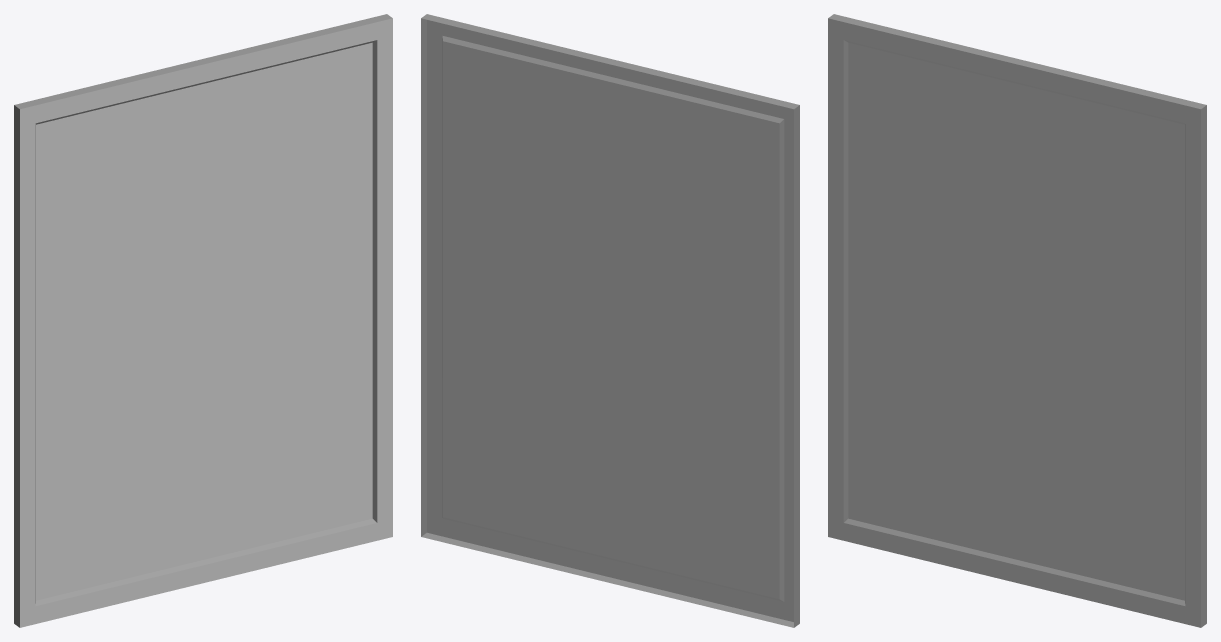
File: Poster1.fbx
3 renders of one model, left to right at view 1: azimuth 30°, elevation 25°; view 2: azimuth 150°, elevation 25°; view 3: azimuth 330°, elevation 25°, orthographic.
Visible parts, largest first — view 1: Plane; view 2: Plane; view 3: Plane.
Boxes of the visible parts, bbox=[...] form: Plane: bbox=[14, 14, 392, 627]; Plane: bbox=[421, 14, 799, 627]; Plane: bbox=[828, 14, 1206, 627].
Bounding box in the file's own units: 161 × 214 × 4.39.
